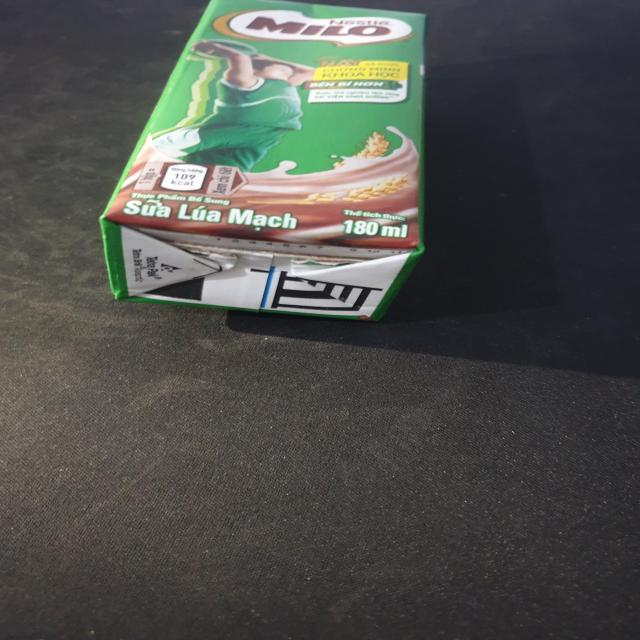Milo: (95, 1, 433, 321)
